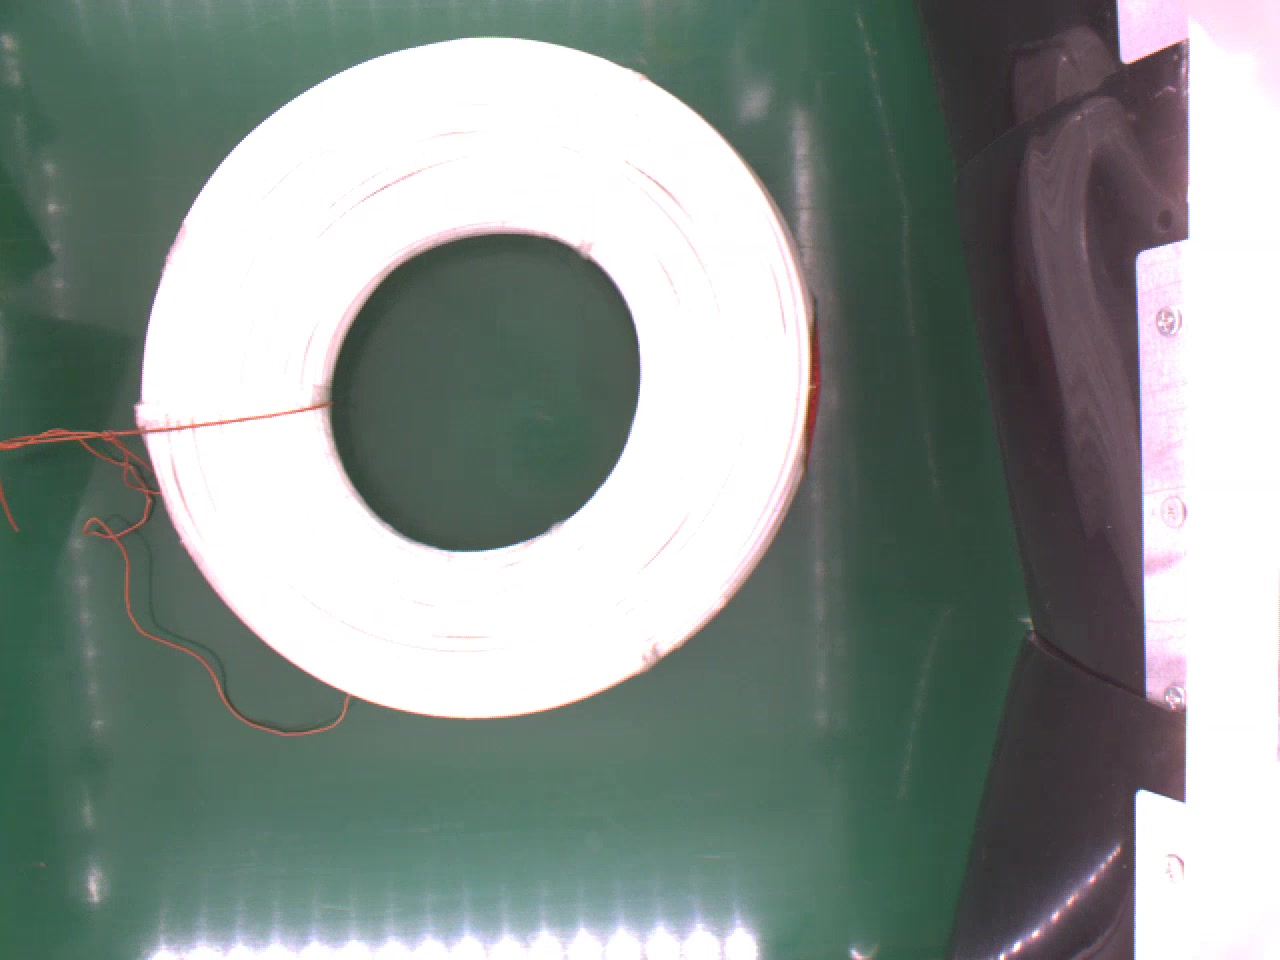white: (132, 35, 826, 718)
